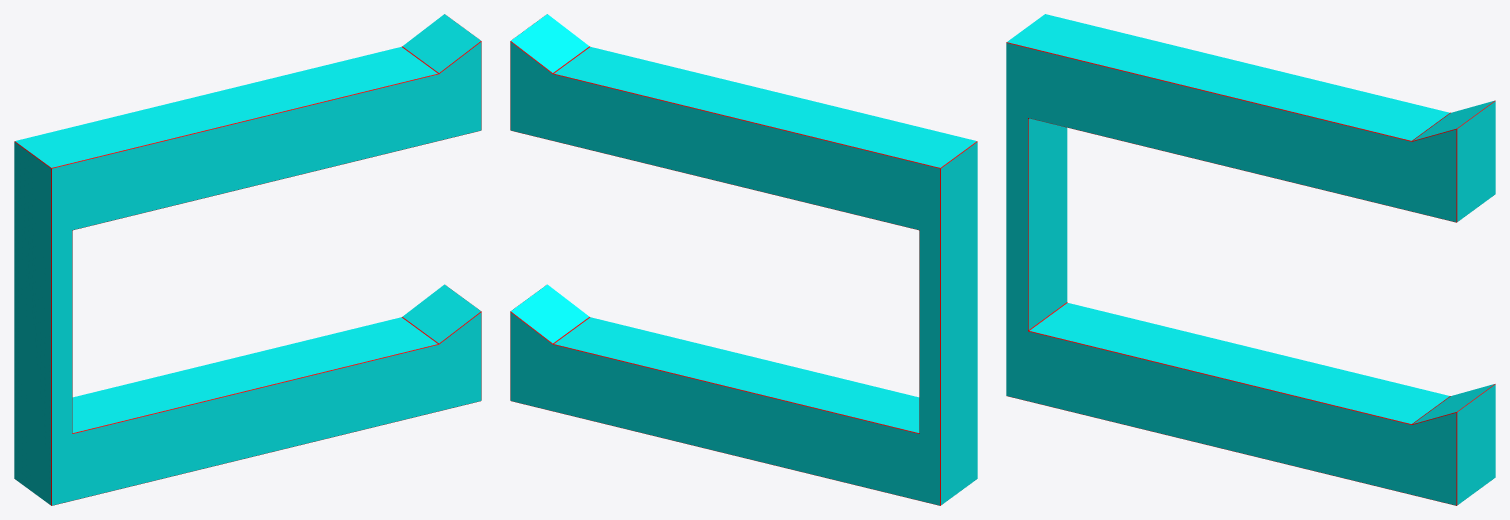
File: L15_TrianglePlatform.fbx
3 views of the same model, side by side, from view 1: azimuth 30°, elevation 25°; view 2: azimuth 150°, elevation 25°; view 3: azimuth 330°, elevation 25° (orthographic). The views are drawn at different scales.
Visible parts, largest first — view 1: L15_TrianglePlatform; view 2: L15_TrianglePlatform; view 3: L15_TrianglePlatform.
Boxes of the visible parts, bbox=[...] form: L15_TrianglePlatform: bbox=[14, 14, 481, 505]; L15_TrianglePlatform: bbox=[510, 14, 977, 505]; L15_TrianglePlatform: bbox=[1006, 14, 1495, 505].
Bounding box in the file's own units: 4000 × 3198 × 600.
